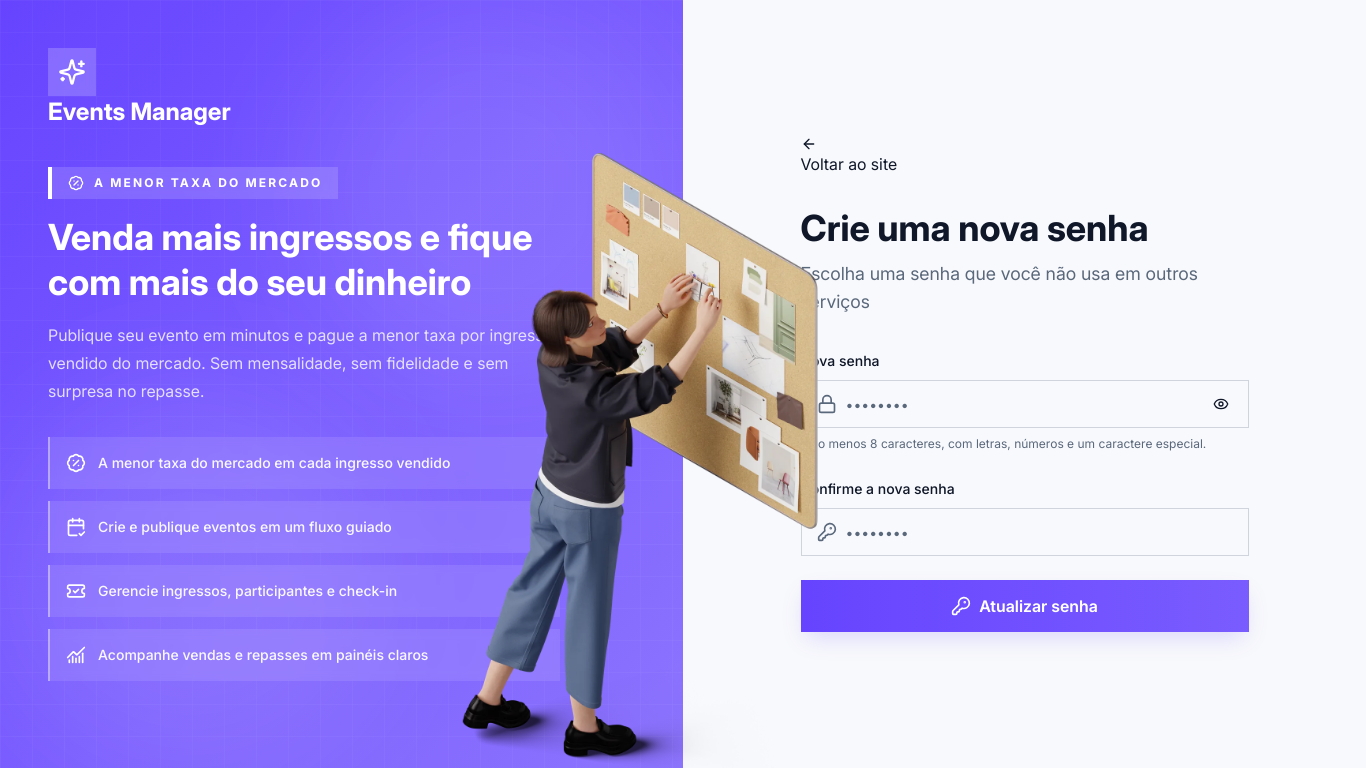
Test case: ResetPasswordPage › sends the new password together with the recovery token and confirms the change
This screenshot has width=1366, height=768.
Type "Qsesbs2006#@!" into the password field labelled "Nova senha" at (1024, 404), box [800,380,1248,428]
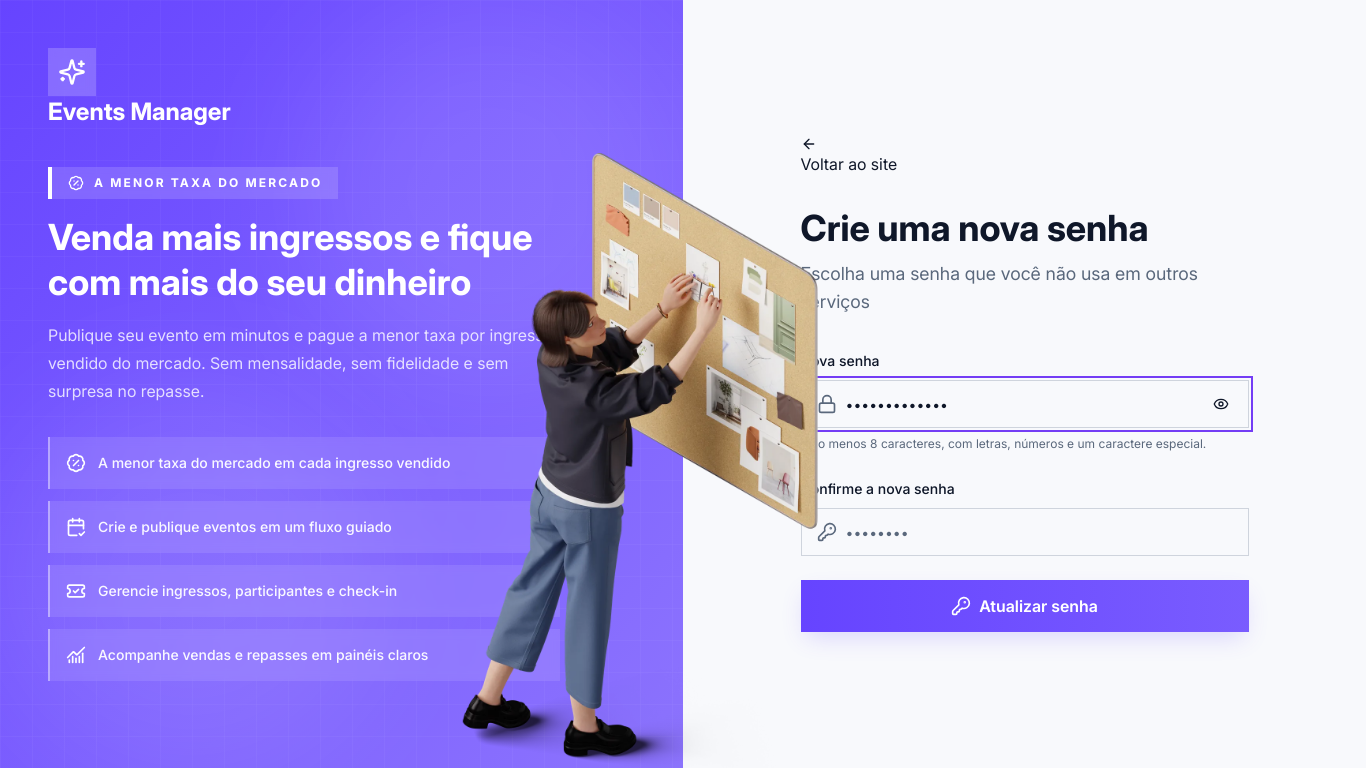
Type "Qsesbs2006#@!" into the password field labelled "Confirme a nova senha" at (1024, 532), box [800,508,1248,556]
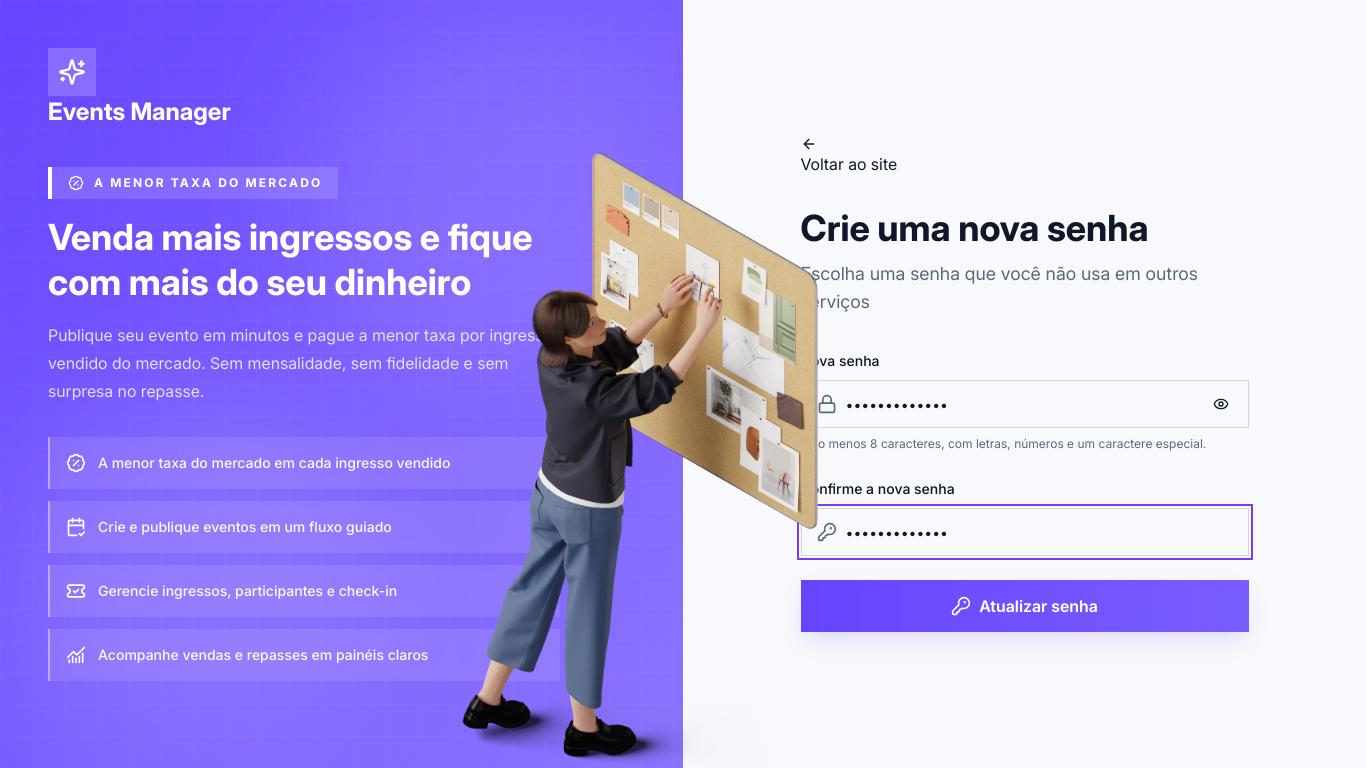
Click the button "Atualizar senha" at (1024, 606), box [800,580,1248,632]
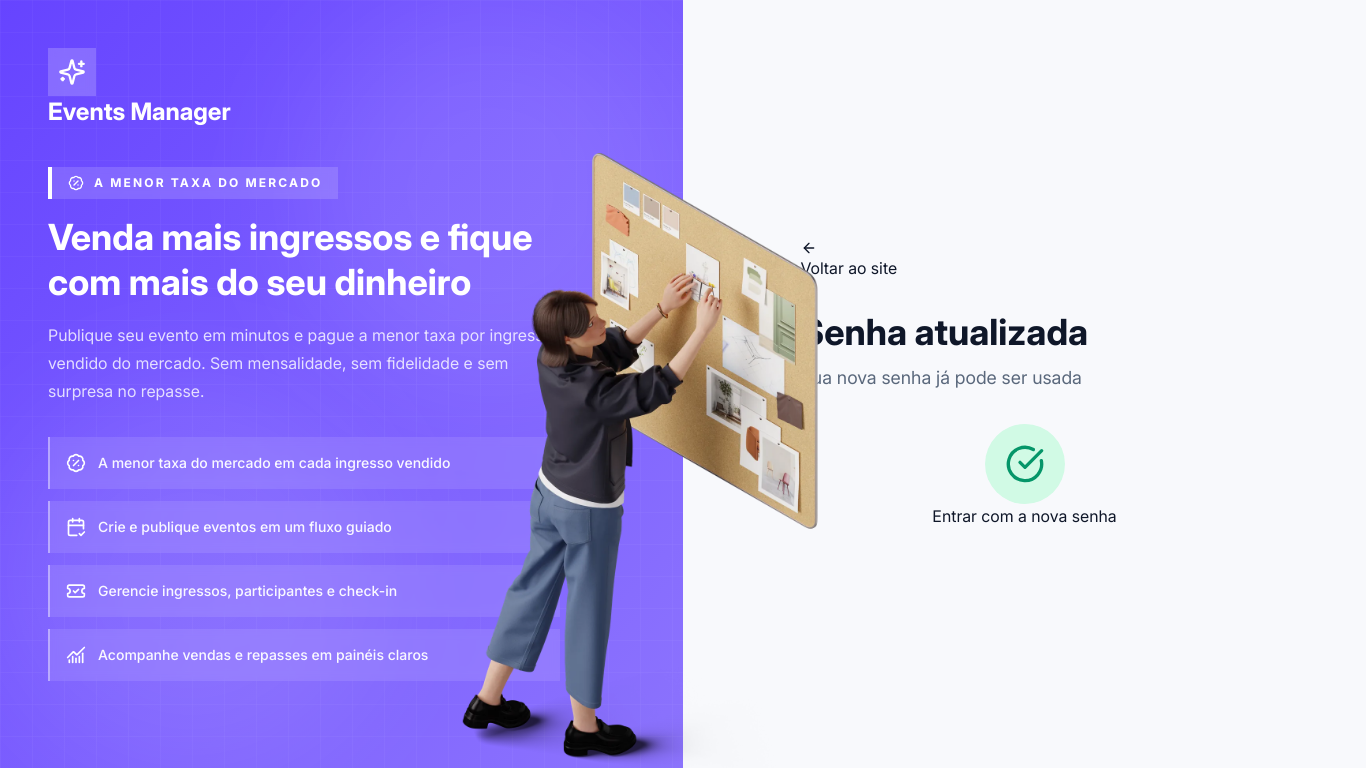
Expected: the heading "Senha atualizada" is shown, [800,310,1088,354]
